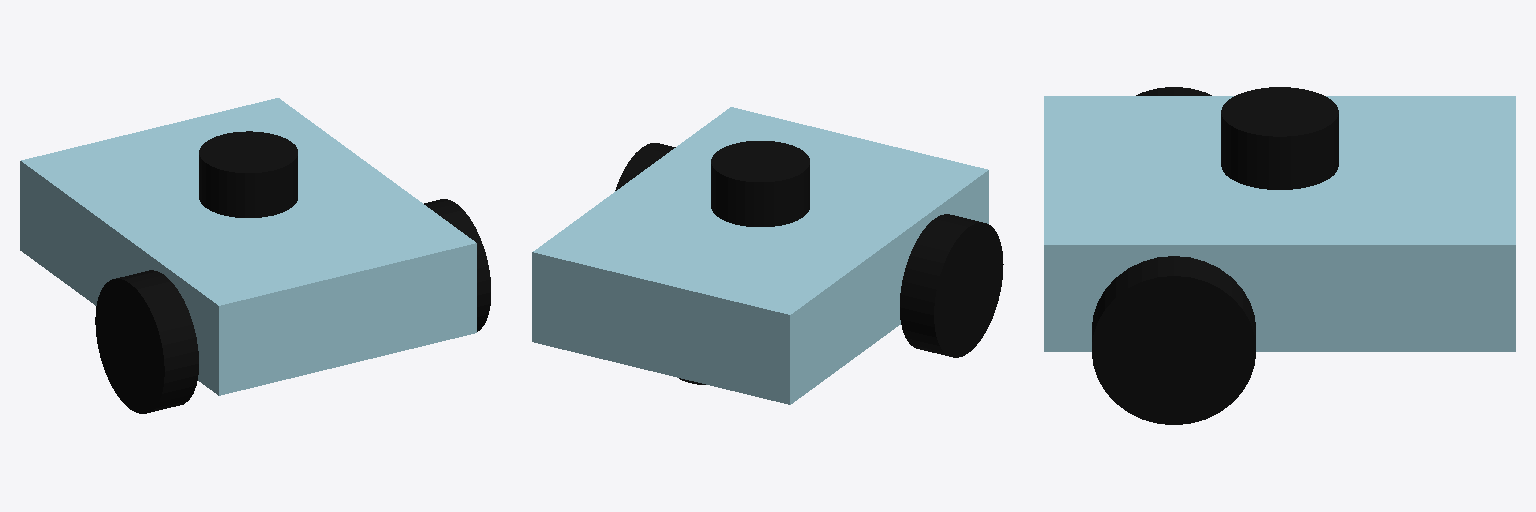
The robot description file, URDF, robot "three_wheel_robot":
<?xml version="1.0"?>
<robot name="three_wheel_robot"
    xmlns:xacro="http://ros.org/wiki/xacro">

    <!-- Materials -->
    <material name="wheel_color">
        <color rgba="0.1 0.1 0.1 1"/>
    </material>

    <material name="baby_blue">
        <color rgba="0.68 0.85 0.90 1.0"/>
    </material>

    <!-- Base Link -->
    <link name="base_link">
        <visual>
            <geometry>
                <box size="0.3 0.4 0.1"/>
            </geometry>
            <material name="baby_blue"/>
        </visual>
        <collision>
            <geometry>
                <box size="0.3 0.4 0.1"/>
            </geometry>
        </collision>
        <inertial>
            <mass value="5.0"/>
            <origin xyz="0 0 0" rpy="0 0 0"/>
            <inertia ixx="0.0833" ixy="0.0" ixz="0.0" iyy="0.0625" iyz="0.0" izz="0.1458"/>
        </inertial>
    </link>

    <!-- LiDAR Link -->
    <link name="lidar_link">
        <visual>
            <geometry>
                <cylinder radius="0.05" length="0.05"/>
            </geometry>
            <material name="wheel_color"/>
        </visual>
        <collision>
            <geometry>
                <cylinder radius="0.05" length="0.05"/>
            </geometry>
        </collision>
        <inertial>
            <mass value="0.1"/>
            <origin xyz="0 0 0" rpy="0 0 0"/>
            <inertia ixx="0.0002" ixy="0.0" ixz="0.0" iyy="0.0002" iyz="0.0" izz="0.00025"/>
        </inertial>
    </link>

    <joint name="lidar_joint" type="fixed">
        <parent link="base_link"/>
        <child link="lidar_link"/>
        <origin xyz="0.0 0.0 0.08" rpy="0 0 0"/>
    </joint>

    <!-- IMU Link -->
    <link name="imu_link">
        <inertial>
            <mass value="0.01"/>
            <origin xyz="0 0 0" rpy="0 0 0"/>
            <inertia ixx="0.00001" ixy="0.0" ixz="0.0" iyy="0.00001" iyz="0.0" izz="0.00001"/>
        </inertial>
    </link>

    <joint name="imu_joint" type="fixed">
        <parent link="base_link"/>
        <child link="imu_link"/>
        <origin xyz="0 0 0" rpy="0 0 0"/>
    </joint>

    <!-- Right Back Wheel -->
    <link name="right_back_wheel">
        <visual>
            <geometry>
                <cylinder radius="0.07" length="0.04"/>
            </geometry>
            <origin xyz="0 0 0" rpy="0 1.5708 0"/>
            <material name="wheel_color"/>
        </visual>
        <collision>
            <geometry>
                <cylinder radius="0.07" length="0.04"/>
            </geometry>
            <origin xyz="0 0 0" rpy="0 1.5708 0"/>
        </collision>
        <inertial>
            <mass value="0.5"/>
            <origin xyz="0 0 0" rpy="0 1.5708 0"/>
            <inertia ixx="0.0012" ixy="0.0" ixz="0.0" iyy="0.0024" iyz="0.0" izz="0.0012"/>
        </inertial>
    </link>

    <joint name="right_back_base" type="continuous">
        <parent link="base_link"/>
        <child link="right_back_wheel"/>
        <origin xyz="0.17 -0.09 -0.03" rpy="0 0 0"/>
        <axis xyz="1 0 0"/>
    </joint>

    <!-- Left Back Wheel -->
    <link name="left_back_wheel">
        <visual>
            <geometry>
                <cylinder radius="0.07" length="0.04"/>
            </geometry>
            <origin xyz="0 0 0" rpy="0 1.5708 0"/>
            <material name="wheel_color"/>
        </visual>
        <collision>
            <geometry>
                <cylinder radius="0.07" length="0.04"/>
            </geometry>
            <origin xyz="0 0 0" rpy="0 1.5708 0"/>
        </collision>
        <inertial>
            <mass value="0.5"/>
            <origin xyz="0 0 0" rpy="0 1.5708 0"/>
            <inertia ixx="0.0012" ixy="0.0" ixz="0.0" iyy="0.0024" iyz="0.0" izz="0.0012"/>
        </inertial>
    </link>

    <joint name="left_back_base" type="continuous">
        <parent link="base_link"/>
        <child link="left_back_wheel"/>
        <origin xyz="-0.17 -0.09 -0.03" rpy="0 0 0"/>
        <axis xyz="1 0 0"/>
    </joint>

    <!-- Support Wheel (Front Caster) -->
    <link name="support_wheel">
        <visual>
            <geometry>
                <sphere radius="0.05"/>
            </geometry>
            <material name="wheel_color"/>
        </visual>
        <collision>
            <geometry>
                <sphere radius="0.05"/>
            </geometry>
        </collision>
        <inertial>
            <mass value="0.2"/>
            <origin xyz="0 0 0" rpy="0 0 0"/>
            <inertia ixx="0.0002" ixy="0.0" ixz="0.0" iyy="0.0002" iyz="0.0" izz="0.0002"/>
        </inertial>
    </link>

    <joint name="support_wheel_joint" type="fixed">
        <parent link="base_link"/>
        <child link="support_wheel"/>
        <origin xyz="0.01 0.1 -0.05" rpy="0 0 0"/>
    </joint>

    <!-- Gazebo Plugins -->
    <gazebo reference="base_link">
        <material>Gazebo/Blue</material>
    </gazebo>

    <gazebo reference="right_back_wheel">
        <material>Gazebo/Black</material>
        <mu1>1.0</mu1>
        <mu2>1.0</mu2>
    </gazebo>

    <gazebo reference="left_back_wheel">
        <material>Gazebo/Black</material>
        <mu1>1.0</mu1>
        <mu2>1.0</mu2>
    </gazebo>

    <gazebo reference="support_wheel">
        <material>Gazebo/Black</material>
        <mu1>0.1</mu1>
        <mu2>0.1</mu2>
    </gazebo>

    <!-- Differential Drive Plugin -->
    <gazebo>
        <plugin name="differential_drive_controller" filename="libgazebo_ros_diff_drive.so">
            <ros>
                <namespace>/</namespace>
                <remapping>cmd_vel:=cmd_vel</remapping>
                <remapping>odom:=odom</remapping>
            </ros>
            <update_rate>30</update_rate>
            <left_joint>left_back_base</left_joint>
            <right_joint>right_back_base</right_joint>
            <wheel_separation>0.44</wheel_separation>
            <wheel_diameter>0.14</wheel_diameter>
            <max_wheel_torque>20</max_wheel_torque>
            <max_wheel_acceleration>1.0</max_wheel_acceleration>
            <command_topic>cmd_vel</command_topic>
            <odometry_topic>odom</odometry_topic>
            <odometry_frame>odom</odometry_frame>
            <robot_base_frame>base_link</robot_base_frame>
            <publish_odom>true</publish_odom>
            <publish_odom_tf>true</publish_odom_tf>
            <publish_wheel_tf>true</publish_wheel_tf>
        </plugin>
    </gazebo>

    <!-- LiDAR Sensor + Plugin -->
    <gazebo reference="lidar_link">
        <sensor type="ray" name="lidar_sensor">
            <pose>0 0 0 0 0 0</pose>
            <visualize>true</visualize>
            <update_rate>10</update_rate>
            <ray>
                <scan>
                    <horizontal>
                        <samples>360</samples>
                        <resolution>1</resolution>
                        <min_angle>-3.14159</min_angle>
                        <max_angle>3.14159</max_angle>
                    </horizontal>
                </scan>
                <range>
                    <min>0.3</min>
                    <max>15</max>
                    <resolution>0.01</resolution>
                </range>
                <noise>
                    <type>gaussian</type>
                    <mean>0.0</mean>
                    <stddev>0.01</stddev>
                </noise>
            </ray>
            <plugin name="gazebo_ros_laser_controller" filename="libgazebo_ros_ray_sensor.so">
                <ros>
                    <remapping>~/out:=scan</remapping>
                </ros>
                <output_type>sensor_msgs/LaserScan</output_type>
                <frame_name>lidar_link</frame_name>
            </plugin>
        </sensor>
    </gazebo>

    <!-- IMU Sensor + Plugin -->
    <gazebo reference="imu_link">
        <sensor type="imu" name="imu_sensor">
            <pose>0 0 0 0 0 0</pose>
            <update_rate>100</update_rate>
            <plugin name="imu_plugin" filename="libgazebo_ros_imu_sensor.so">
                <ros>
                    <remapping>~/out:=imu</remapping>
                </ros>
                <frame_name>imu_link</frame_name>
            </plugin>
        </sensor>
    </gazebo>

</robot>

--- Render facts (derived) ---
The picture shows the robot from 3 angles, left to right: view 1: azimuth 30°, elevation 25°; view 2: azimuth 150°, elevation 25°; view 3: azimuth 270°, elevation 25°; orthographic projection.
Model three_wheel_robot with 6 links and 5 joints (2 continuous, 3 fixed), rooted at base_link, posed every joint at zero.
Links seen in each view (by area): view 1: base_link, left_back_wheel, lidar_link, right_back_wheel; view 2: base_link, left_back_wheel, lidar_link, right_back_wheel; view 3: base_link, right_back_wheel, lidar_link.
Boxes of the visible links, bbox=[...] form: base_link: bbox=[20, 98, 476, 395]; left_back_wheel: bbox=[95, 270, 198, 413]; lidar_link: bbox=[199, 131, 297, 217]; right_back_wheel: bbox=[424, 199, 490, 331]; base_link: bbox=[532, 107, 988, 404]; left_back_wheel: bbox=[900, 214, 1003, 357]; lidar_link: bbox=[711, 141, 809, 226]; right_back_wheel: bbox=[615, 143, 675, 190]; base_link: bbox=[1044, 96, 1515, 351]; right_back_wheel: bbox=[1092, 256, 1255, 424]; lidar_link: bbox=[1221, 87, 1338, 189].
Bounding box of the posed robot: 0.38 × 0.4 × 0.205 m (x, y, z).
Geometry: primitives only (box / cylinder / sphere), no mesh files.
